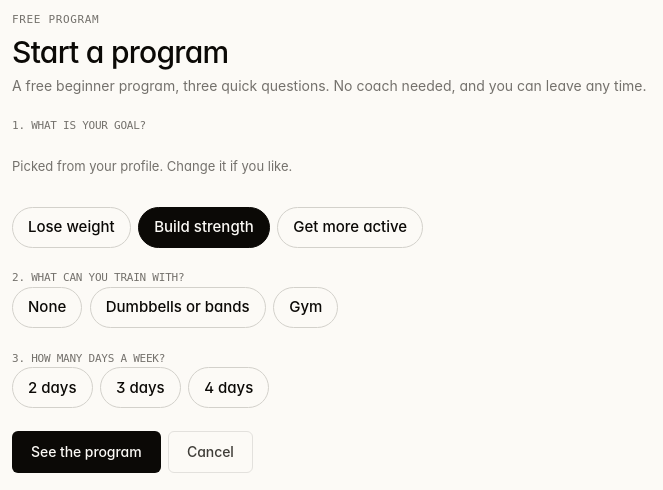
Test: StartFlow › says when no program fits
Click the radio button labelled "None": click(47, 308) x1=12 y1=287 x2=82 y2=328
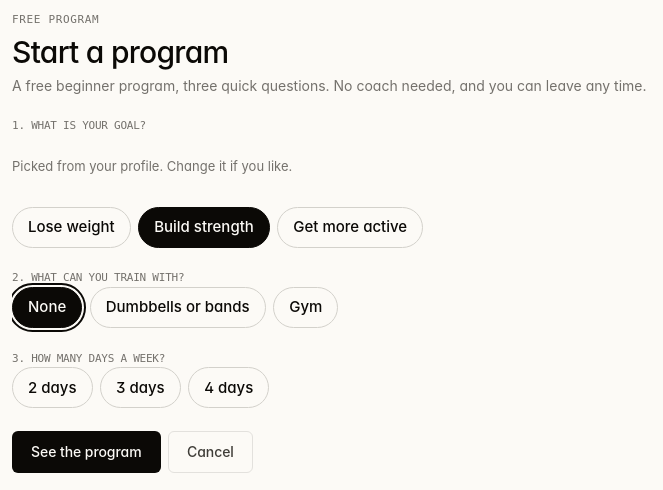
Click the radio button labelled "3 days": click(140, 388) x1=100 y1=367 x2=181 y2=408
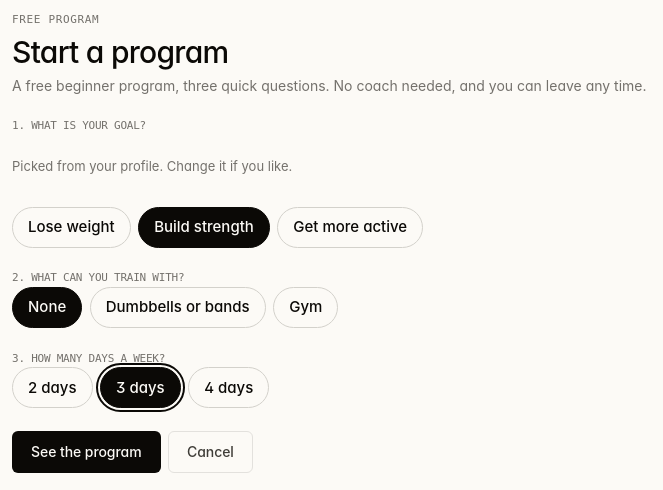
Click the button "See the program": click(86, 452) x1=12 y1=431 x2=160 y2=473
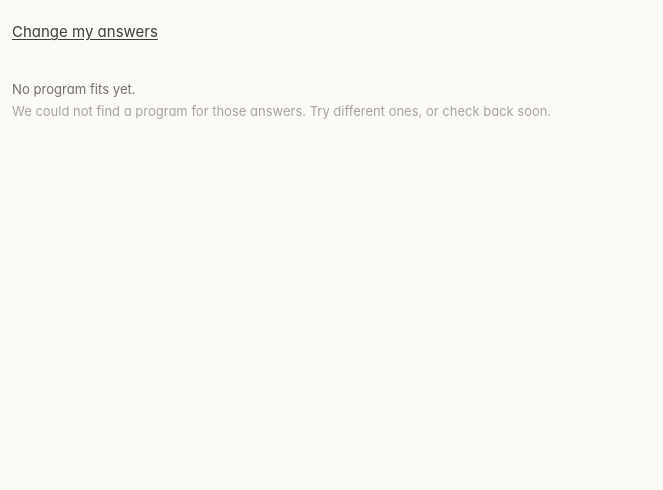
Check: the text "No program fits yet." is shown, box x1=12 y1=80 x2=136 y2=96
